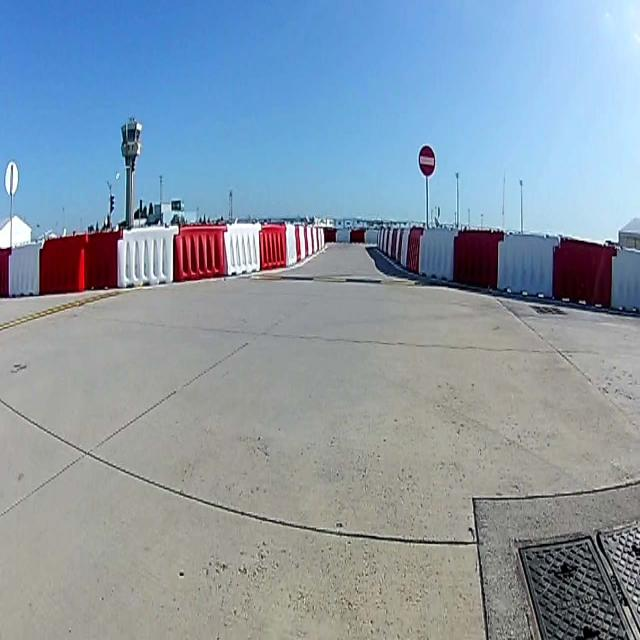girisyok: (416, 144, 436, 179)
